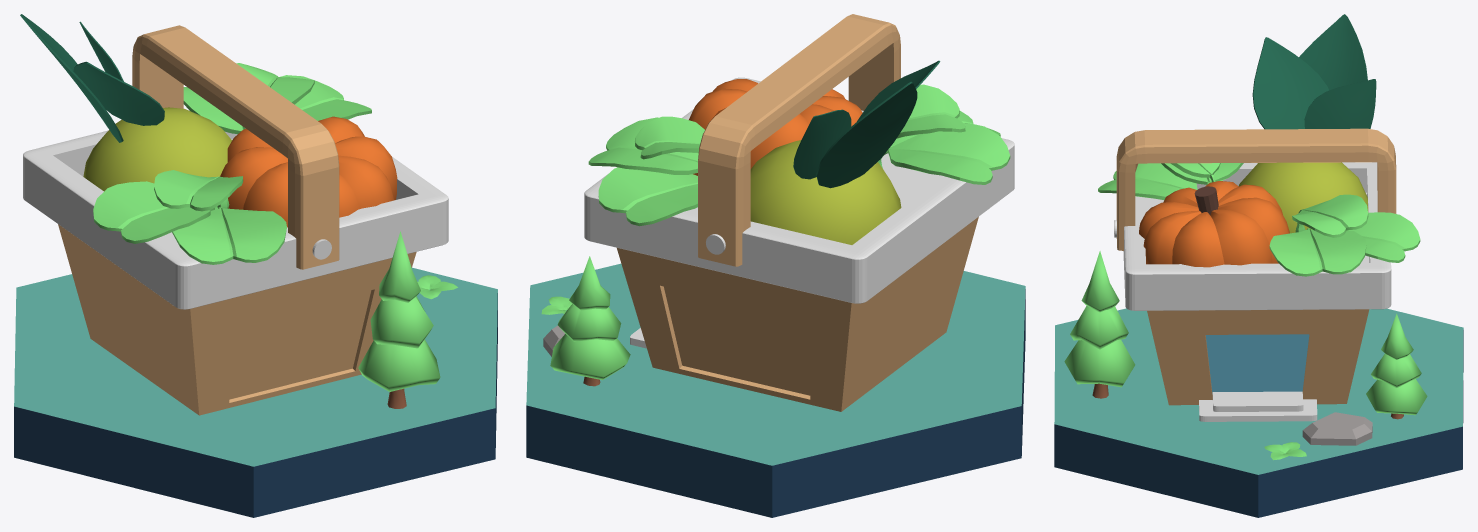
Rendered from Macro - market lv3.fbx.
The picture shows the model from 3 angles, left to right: view 1: azimuth 30°, elevation 25°; view 2: azimuth 150°, elevation 25°; view 3: azimuth 270°, elevation 25°; orthographic projection. The views are drawn at different scales.
Parts seen in each view (by area): view 1: Cylinder.154, Plane.069, Cube.103, Roundcube.004, Sphere.045, Sphere.044, Tree_Spruce_tiny_01.003, Plane.008, Plane.007, Plane.078, Plane.010, Plane.012 (+5 smaller); view 2: Cylinder.154, Plane.069, Cube.103, Roundcube.004, Sphere.044, Tree_Spruce_tiny_01.004, Plane.007, Plane.079, Plane.009, Sphere.045, Plane.012, Plane.016 (+3 smaller); view 3: Cylinder.154, Cube.103, Plane.069, Roundcube.004, Sphere.045, Plane.005, Tree_Spruce_tiny_01.003, Plane.078, Sphere.044, Plane.012, Tree_Spruce_tiny_01.004, Plane.079 (+11 smaller).
Boxes of the visible parts, x1,y1,x2,y2 form: Cylinder.154: (14, 267, 497, 517); Plane.069: (58, 224, 416, 415); Cube.103: (23, 110, 448, 309); Roundcube.004: (132, 25, 339, 269); Sphere.045: (220, 116, 397, 227); Sphere.044: (83, 107, 231, 191); Tree_Spruce_tiny_01.003: (358, 231, 440, 408); Plane.008: (172, 207, 286, 264); Plane.007: (93, 181, 217, 243); Plane.078: (73, 61, 164, 125); Plane.010: (154, 170, 243, 211); Plane.012: (280, 75, 371, 120); Cylinder.154: (526, 263, 1025, 517); Plane.069: (617, 217, 978, 411); Cube.103: (584, 77, 1014, 303); Roundcube.004: (698, 14, 900, 266); Sphere.044: (750, 140, 901, 244); Tree_Spruce_tiny_01.004: (550, 256, 630, 386); Plane.007: (878, 123, 1010, 184); Plane.079: (816, 81, 917, 188); Plane.009: (598, 167, 697, 226); Sphere.045: (689, 79, 862, 175); Plane.012: (588, 117, 698, 174); Plane.016: (635, 116, 704, 159); Cylinder.154: (1054, 308, 1463, 517); Cube.103: (1123, 162, 1391, 310); Plane.069: (1147, 309, 1369, 405); Roundcube.004: (1116, 128, 1396, 250); Sphere.045: (1139, 181, 1289, 267); Plane.005: (1205, 334, 1309, 393); Tree_Spruce_tiny_01.003: (1064, 251, 1135, 398); Plane.078: (1252, 37, 1328, 129); Sphere.044: (1238, 162, 1368, 233); Plane.012: (1269, 228, 1366, 276); Tree_Spruce_tiny_01.004: (1366, 313, 1427, 419); Plane.079: (1299, 14, 1367, 90).
Bounding box in the file's own units: 197 × 153 × 172.
